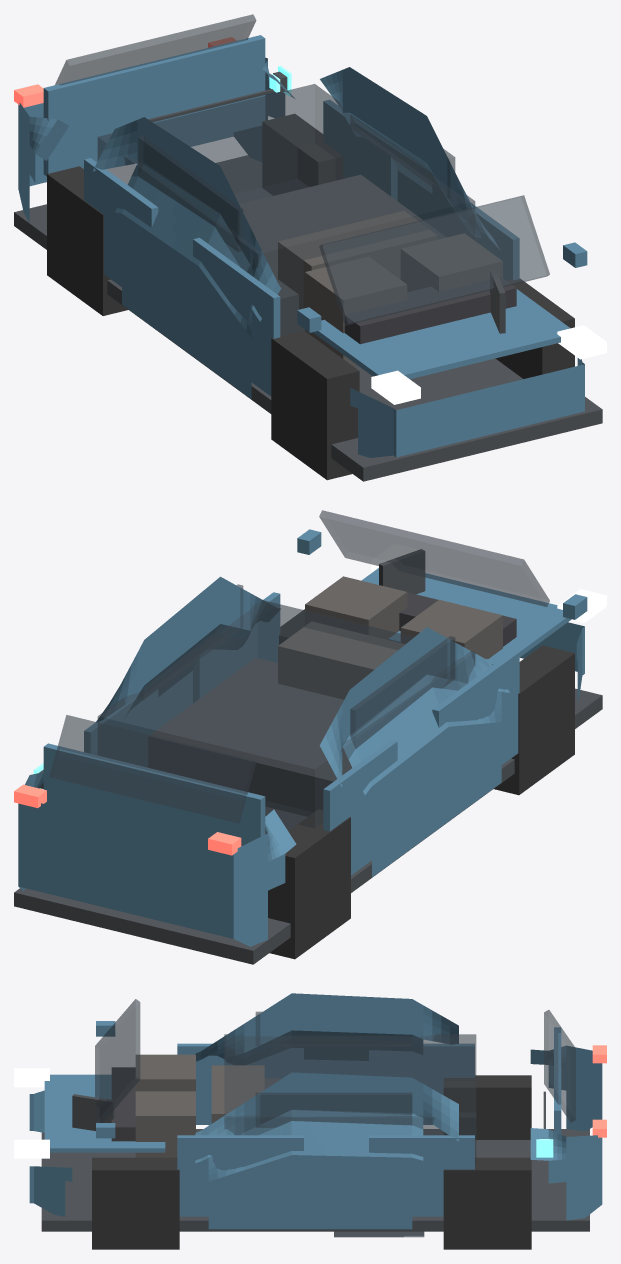
The model's file is fallback_lod.ce9d00da11.glb.
The picture shows the model from 3 angles, top to bottom: view 1: azimuth 30°, elevation 25°; view 2: azimuth 150°, elevation 25°; view 3: azimuth 270°, elevation 25°; orthographic projection. The views are drawn at different scales.
Visible parts, largest first — view 1: body_mesh, cab_mesh, windshield, liftgate_mesh, trim_mesh, tire_fr, frunk_mesh, wheel_well_mesh, tire_rr, seat_rear, dash, seat_r (+13 smaller); view 2: body_mesh, cab_mesh, wheel_well_mesh, liftgate_mesh, rear_glass, windshield, tire_rr, trim_mesh, tire_fr, seat_rear, frunk_mesh, window_fixed_r (+12 smaller); view 3: body_mesh, cab_mesh, trim_mesh, tire_fl, tire_rl, window_fixed_l, tire_rr, door_fl_mesh, frunk_mesh, door_rl_mesh, windshield, door_rr_mesh (+12 smaller).
Boxes of the visible parts, x1,y1,x2,y2 form: body_mesh: [18, 57, 584, 457]; cab_mesh: [97, 84, 475, 335]; windshield: [319, 195, 549, 325]; liftgate_mesh: [43, 35, 265, 176]; trim_mesh: [14, 155, 602, 481]; tire_fr: [271, 330, 359, 480]; frunk_mesh: [313, 289, 570, 379]; wheel_well_mesh: [239, 174, 445, 335]; tire_rr: [47, 166, 128, 315]; seat_rear: [278, 211, 437, 309]; dash: [344, 277, 516, 344]; seat_r: [305, 257, 406, 366]; body_mesh: [18, 576, 584, 946]; cab_mesh: [97, 600, 475, 834]; wheel_well_mesh: [148, 658, 351, 816]; liftgate_mesh: [43, 743, 265, 846]; rear_glass: [49, 715, 256, 823]; windshield: [319, 510, 549, 606]; tire_rr: [268, 809, 350, 959]; trim_mesh: [14, 688, 602, 964]; tire_fr: [494, 645, 574, 795]; seat_rear: [278, 621, 404, 699]; frunk_mesh: [361, 568, 571, 664]; window_fixed_r: [350, 636, 455, 748]; body_mesh: [29, 993, 602, 1229]; cab_mesh: [224, 1034, 476, 1163]; trim_mesh: [41, 1129, 589, 1231]; tire_fl: [92, 1157, 179, 1249]; tire_rl: [443, 1157, 531, 1249]; window_fixed_l: [255, 1092, 412, 1127]; tire_rr: [443, 1075, 531, 1139]; door_fl_mesh: [177, 1135, 303, 1216]; frunk_mesh: [44, 1074, 165, 1152]; door_rl_mesh: [369, 1135, 474, 1216]; windshield: [95, 999, 140, 1123]; door_rr_mesh: [369, 1044, 474, 1124].
Bounding box in the file's own units: 2.09 × 1.86 × 4.92.
